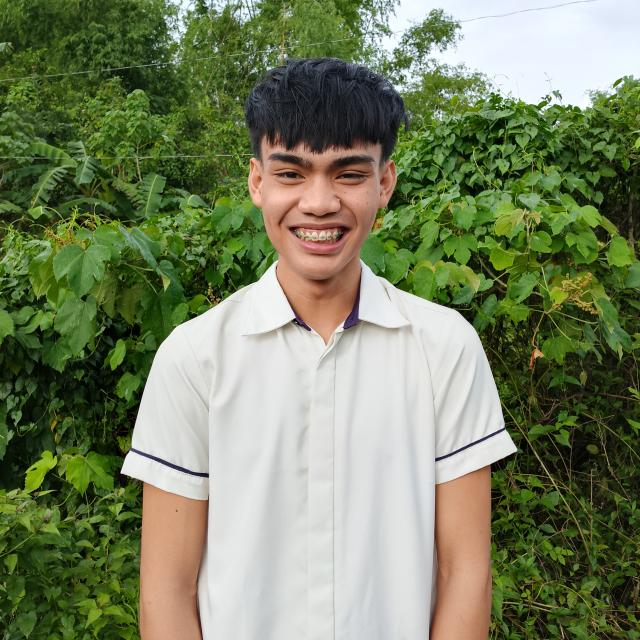education_male_uniform: (142, 253, 580, 640), (125, 223, 528, 629), (186, 256, 494, 416), (121, 330, 328, 539), (392, 318, 576, 520), (78, 360, 284, 488), (375, 373, 567, 494), (188, 249, 342, 363), (329, 268, 481, 374)
